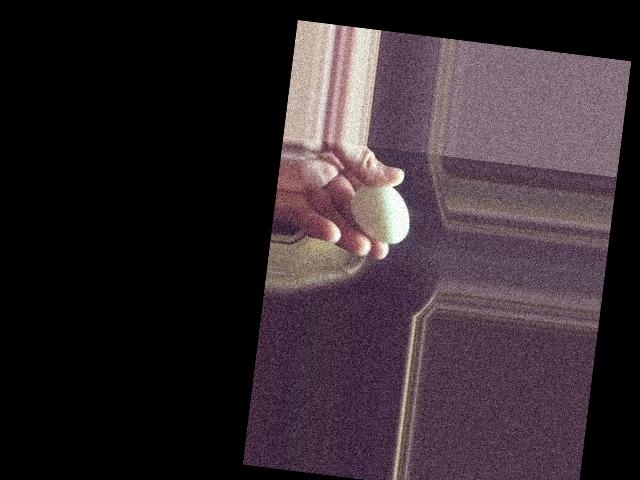egg: (347, 181, 413, 245)
